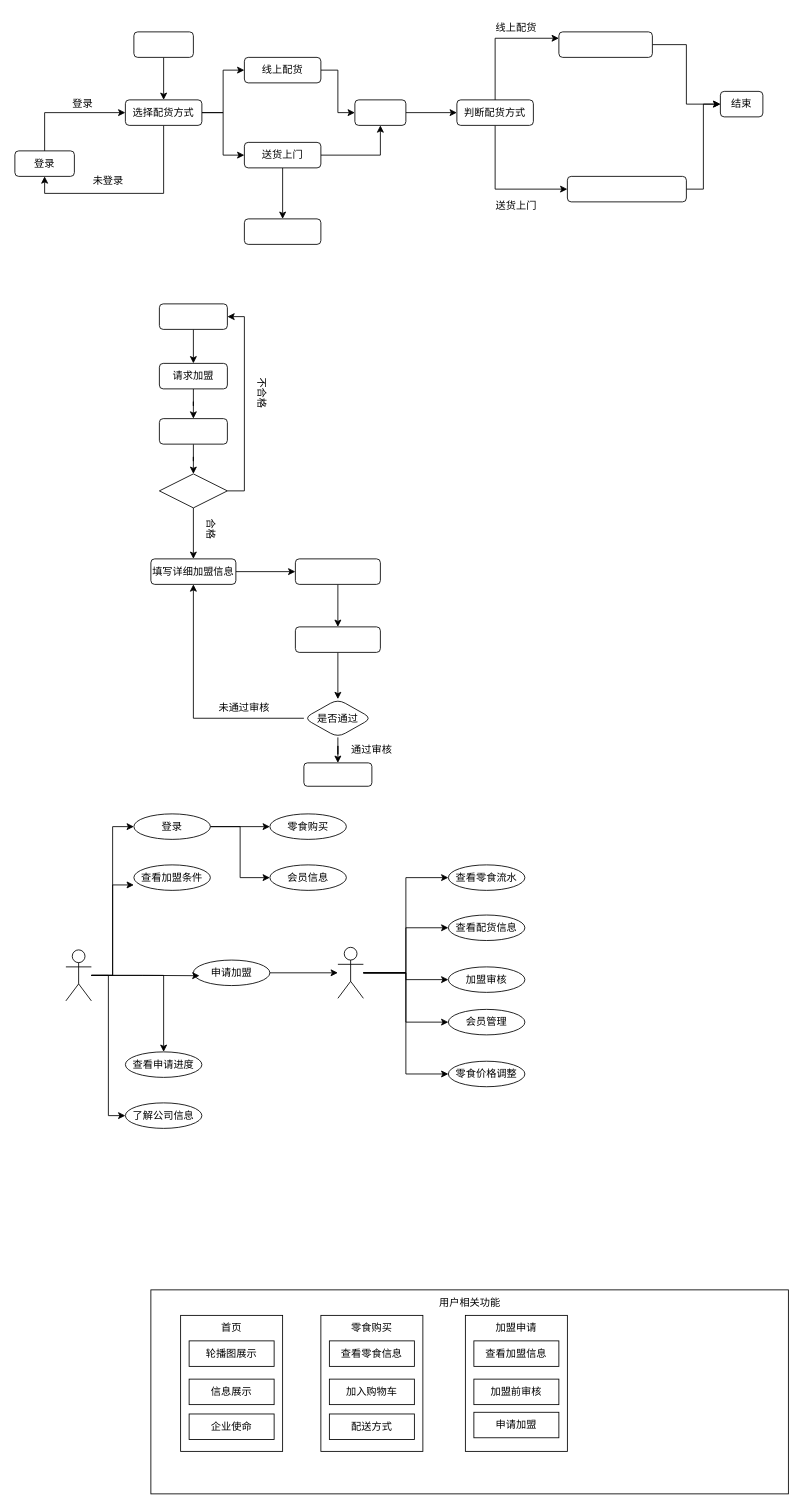
Some shapes in this 803 by 1509 pixel diagram are drawn without their labels. The centre of each missing label's shape, as x and y in pixels:
后台二次审核: (337,639)
后台通知配货信息: (605,44)
填写地址: (282,231)
成功加盟: (337,774)
提交加盟信息: (337,571)
是否合格: (193,490)
用户: (78,975)
管理员: (350,972)
结账: (380,112)
资质审核答题: (193,431)
进入加盟页: (193,316)
选购零食: (163,44)
通知送货地址及零食信息: (626,189)
